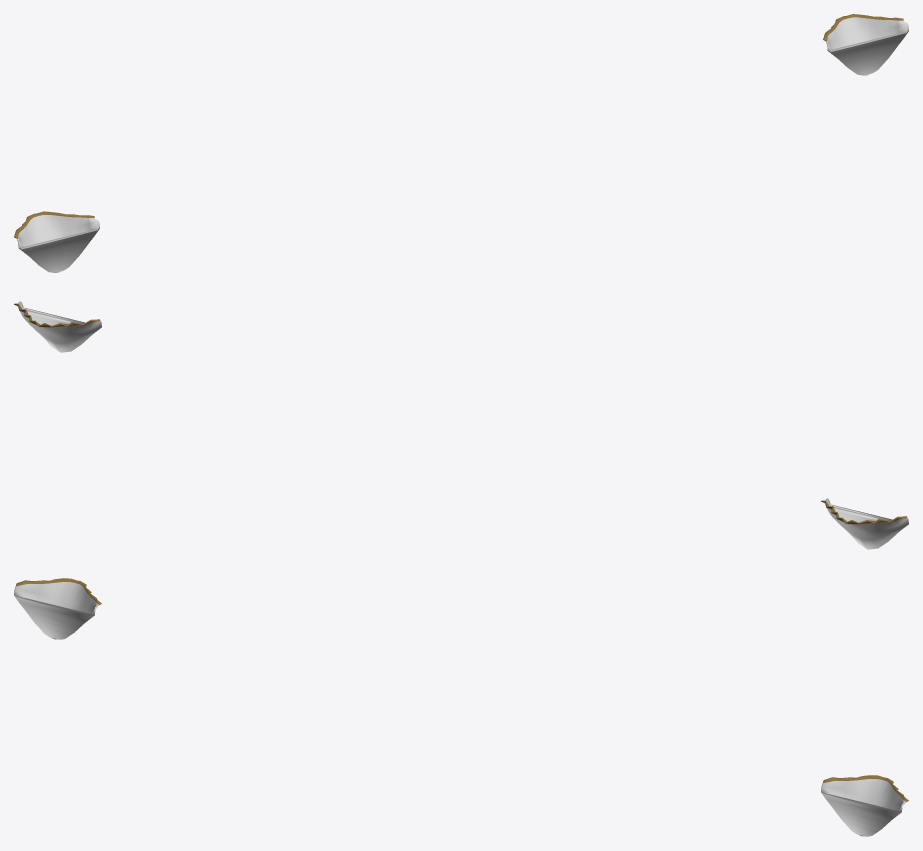
File: lumiere_chambre_2.fbx
3 views of the same model, one above another, from view 1: azimuth 30°, elevation 25°; view 2: azimuth 150°, elevation 25°; view 3: azimuth 330°, elevation 25° (orthographic).
Visible parts, largest first — view 1: Plane.081, Plane.082; view 2: Plane.081, Plane.082; view 3: Plane.081, Plane.082.
Part boxes in pixels (left/top/right/bottom): Plane.081: left=823, top=14, right=908, bottom=75; Plane.082: left=14, top=211, right=99, bottom=272; Plane.081: left=14, top=301, right=101, bottom=352; Plane.082: left=821, top=498, right=908, bottom=549; Plane.081: left=821, top=775, right=908, bottom=836; Plane.082: left=14, top=578, right=101, bottom=639.
Size of the model in its own units: 1657 by 82 by 75.88.
